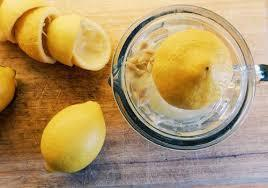lemon: (151, 30, 232, 110), (40, 100, 106, 174), (15, 6, 64, 64), (0, 0, 48, 43), (72, 20, 112, 70), (47, 14, 80, 66), (0, 66, 16, 112)
